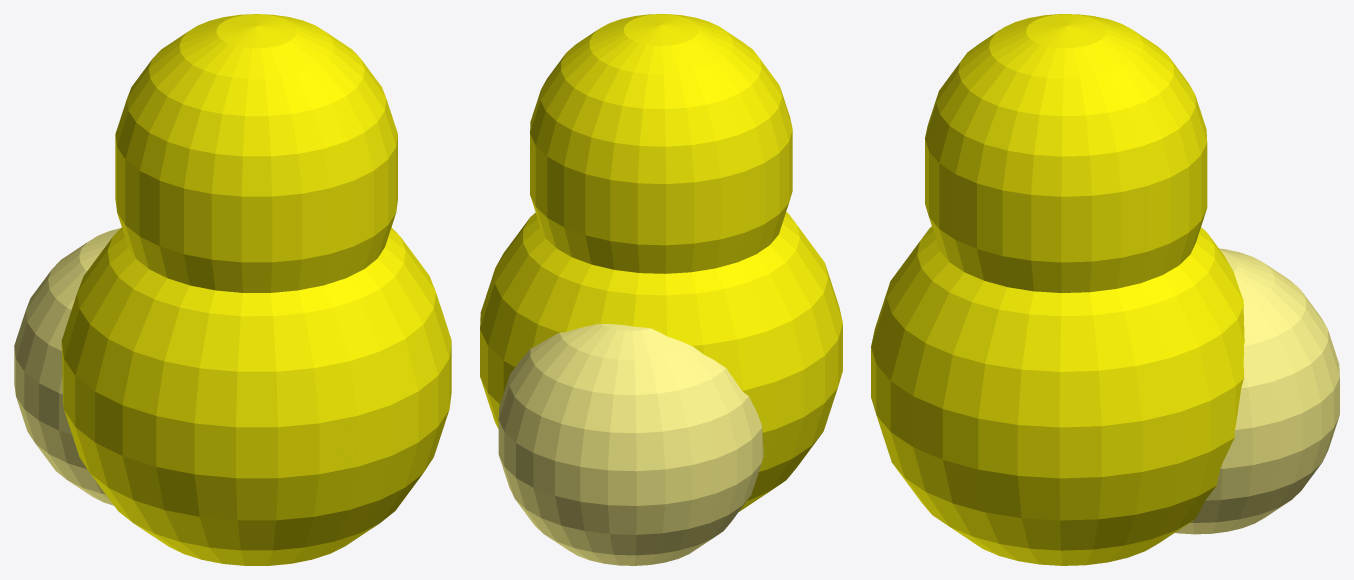
Rendered from Corps 01.fbx.
The picture shows the model from 3 angles, left to right: view 1: azimuth 30°, elevation 25°; view 2: azimuth 150°, elevation 25°; view 3: azimuth 270°, elevation 25°; orthographic projection. The views are drawn at different scales.
Parts seen in each view (by area): view 1: ventre, poitrine, Bidou; view 2: poitrine, Bidou, ventre; view 3: ventre, poitrine, Bidou.
Part boxes in pixels (left/top/right/bottom): ventre: left=61, top=227, right=451, bottom=565; poitrine: left=115, top=14, right=397, bottom=292; Bidou: left=14, top=228, right=120, bottom=505; poitrine: left=530, top=14, right=792, bottom=273; Bidou: left=498, top=324, right=763, bottom=565; ventre: left=480, top=212, right=842, bottom=511; ventre: left=871, top=226, right=1244, bottom=565; poitrine: left=925, top=14, right=1207, bottom=292; Bidou: left=1175, top=248, right=1339, bottom=534.
Bounding box in the file's own units: 249 × 369 × 299.
